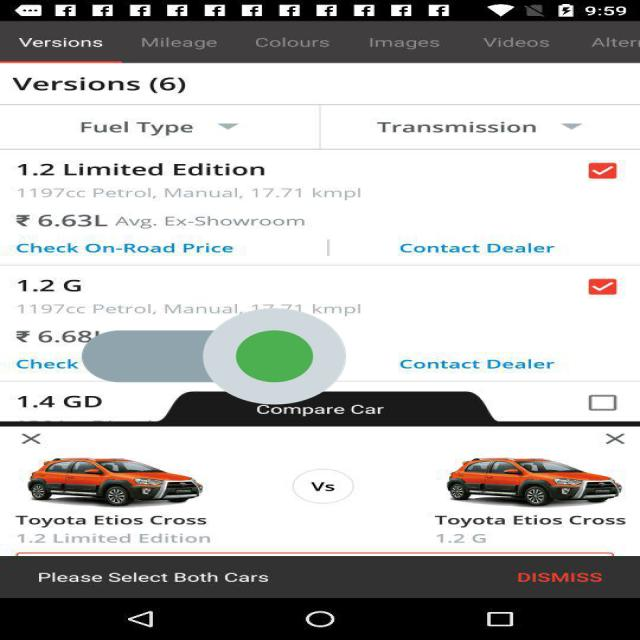social proof: (82, 268, 346, 446)
